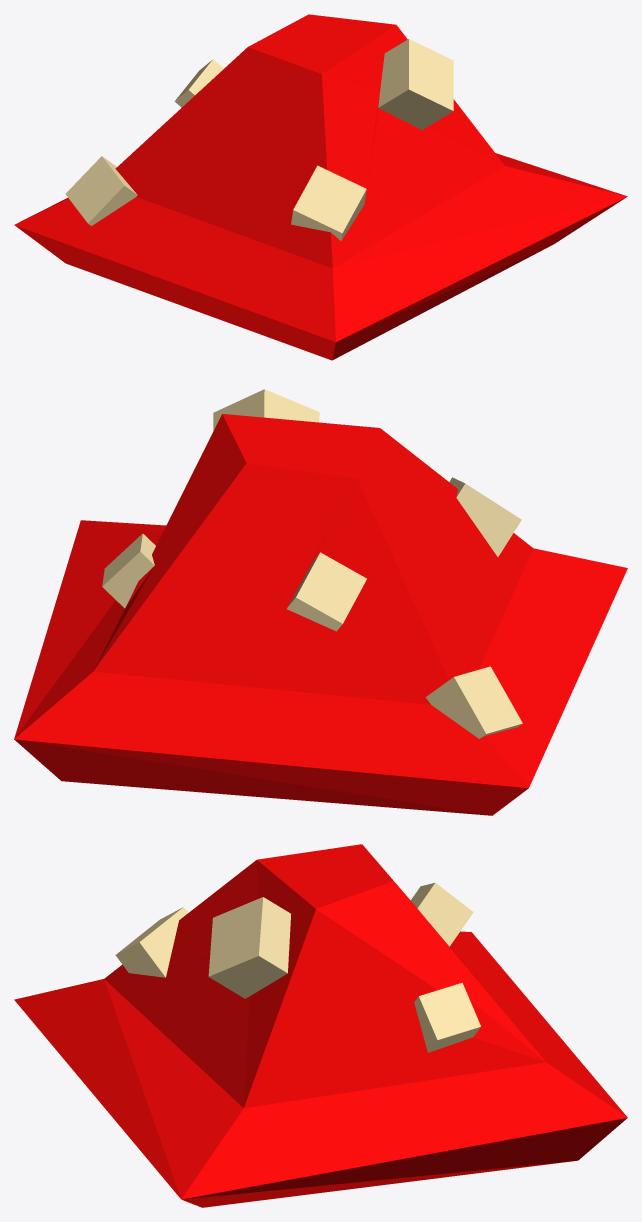
File: cap2s.obj
3 renders of one model, top to bottom at view 1: azimuth 30°, elevation 25°; view 2: azimuth 150°, elevation 25°; view 3: azimuth 270°, elevation 25°, orthographic. The views are drawn at different scales.
Parts seen in each view (by area): view 1: Cap3; view 2: Cap3; view 3: Cap3.
Boxes of the visible parts, bbox=[...] form: Cap3: bbox=[14, 14, 627, 360]; Cap3: bbox=[14, 389, 627, 815]; Cap3: bbox=[14, 844, 627, 1207].
Bounding box in the file's own units: 0.2705 × 0.1164 × 0.2591.
